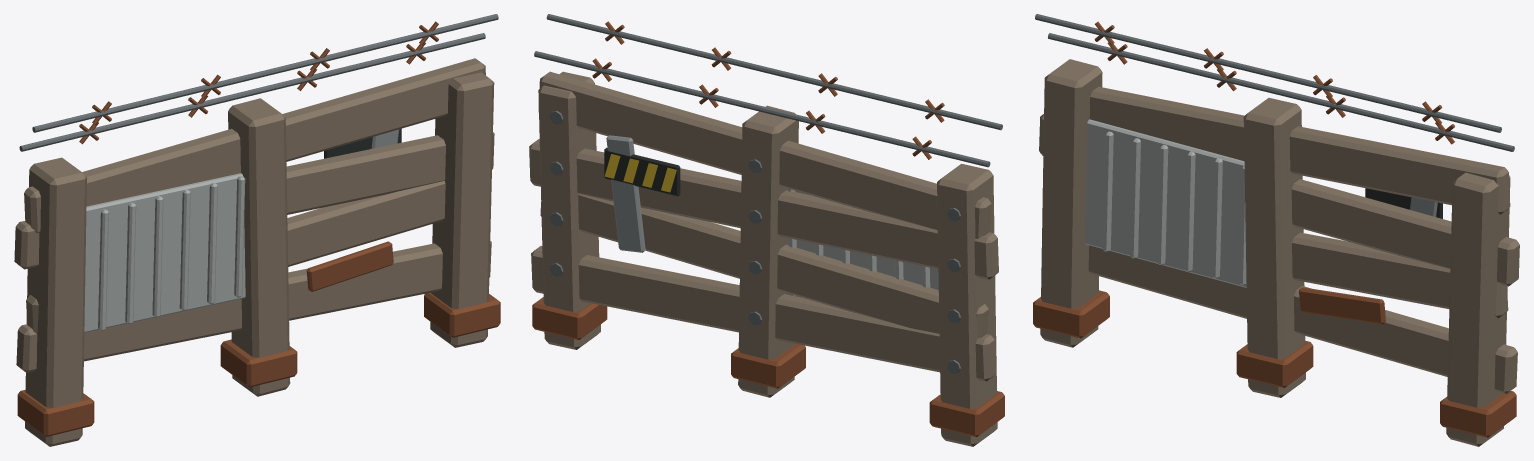
File: barricade.glb
3 views of the same model, side by side, from view 1: azimuth 30°, elevation 25°; view 2: azimuth 150°, elevation 25°; view 3: azimuth 330°, elevation 25° (orthographic). The views are drawn at different scales.
Parts seen in each view (by area): view 1: barricade; view 2: barricade; view 3: barricade.
Part boxes in pixels (x1,y1,x2,y2): barricade: (14, 14, 500, 446); barricade: (529, 14, 1004, 446); barricade: (1033, 14, 1519, 446).
Bounding box in the file's own units: 1.91 × 1.26 × 0.205.
